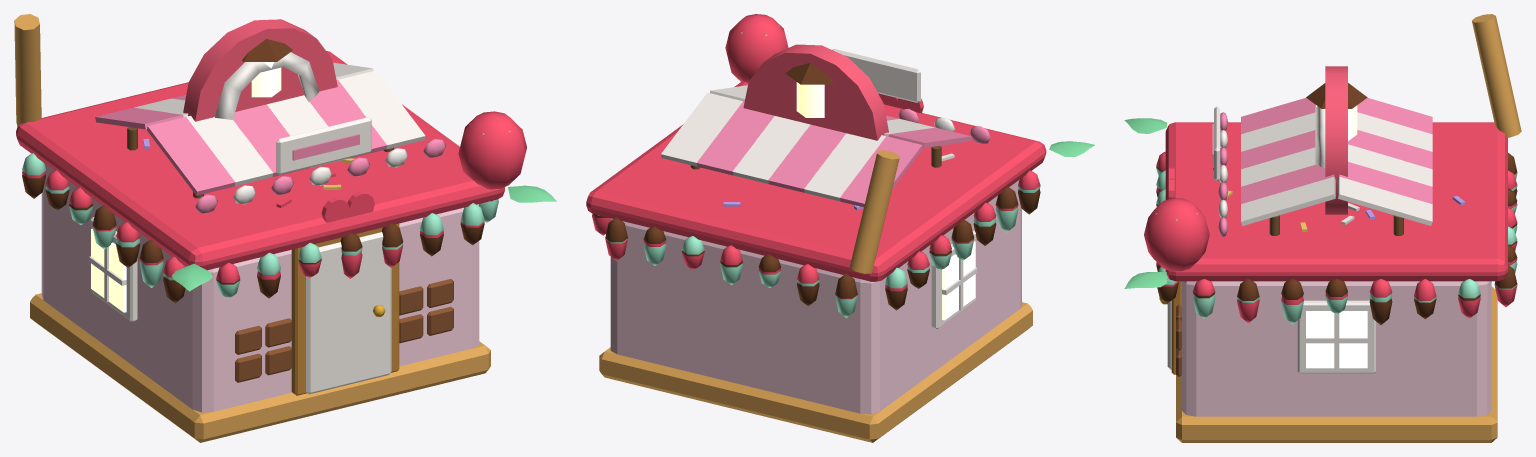
File: vila-doce-props.glb
The picture shows the model from 3 angles, left to right: view 1: azimuth 30°, elevation 25°; view 2: azimuth 150°, elevation 25°; view 3: azimuth 270°, elevation 25°; orthographic projection. The views are drawn at different scales.
Visible parts, largest first — view 1: casinha-a, barraca, casinha-b, pirulito, casinha-c, lampiao; view 2: casinha-a, barraca, pirulito, casinha-b, casinha-c, lampiao; view 3: casinha-a, barraca, casinha-b, casinha-c, pirulito, lampiao.
Part boxes in pixels (x1,y1,x2,y2): casinha-a: (16,51,526,442); barraca: (95,62,445,213); casinha-b: (14,14,492,382); pirulito: (183,19,337,121); casinha-c: (22,138,556,298); lampiao: (242,39,292,97); casinha-a: (586,14,1046,442); barraca: (661,48,990,207); pirulito: (743,44,888,140); casinha-b: (593,150,1040,310); casinha-c: (597,141,1094,317); lampiao: (785,63,833,117); casinha-a: (1144,122,1517,442); barraca: (1212,97,1432,236); casinha-b: (1156,14,1521,376); casinha-c: (1124,118,1517,324); pirulito: (1315,66,1347,214); lampiao: (1306,83,1367,140).
Bounding box in the file's own units: 3.89 × 3.25 × 3.85.
